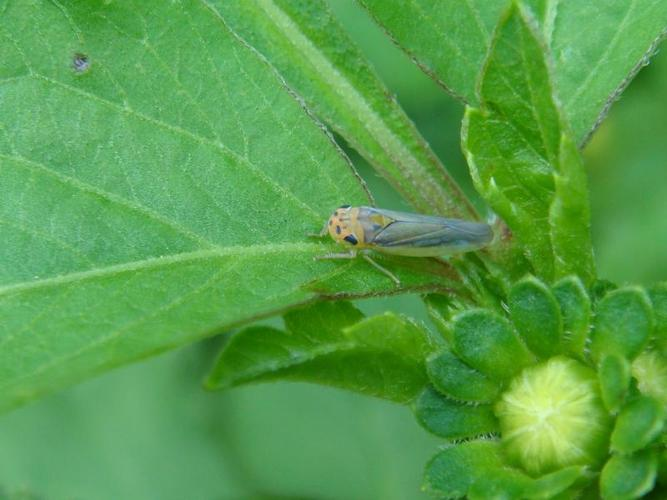Cicadellidae: (309, 206, 494, 256)
